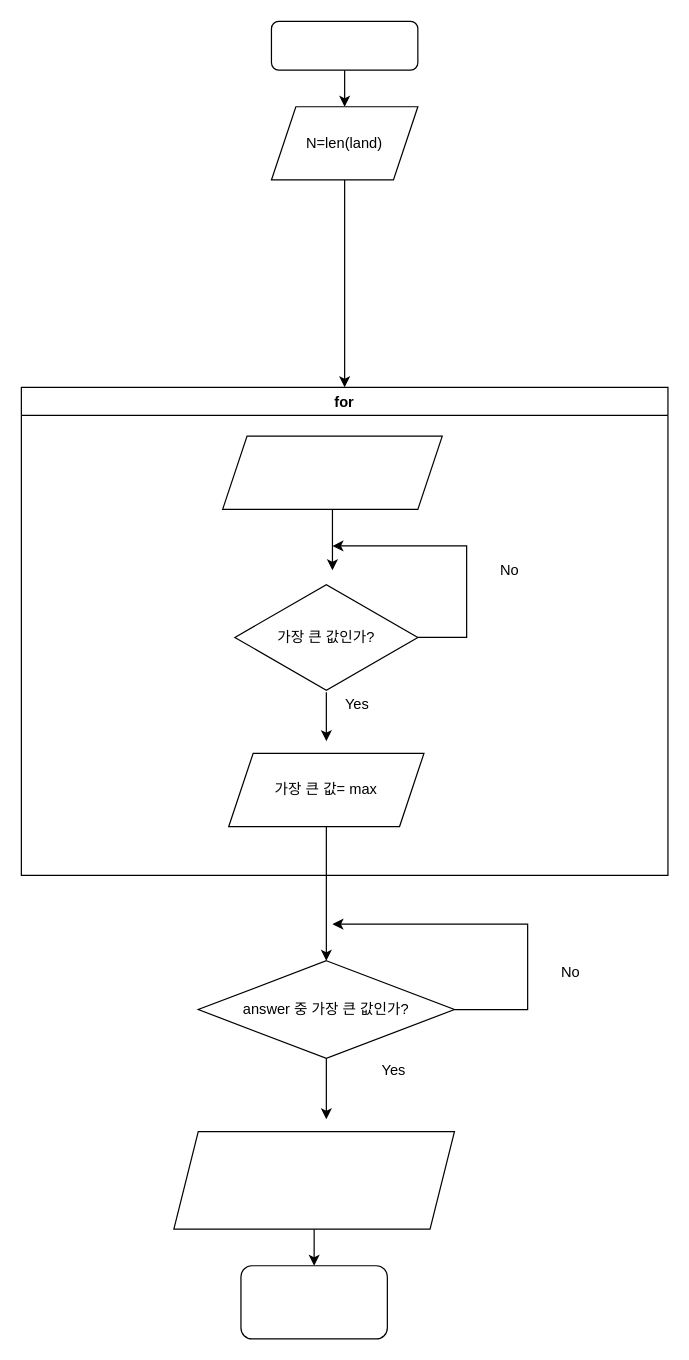
This 689x1360 diagram has some shape labels left out. Each missing label, with the centre of its shape:
answer(max): the point at 313,1179
Lamp doesn't work: the point at 344,45
land에 모든 기댓값 더하기: the point at 331,472
